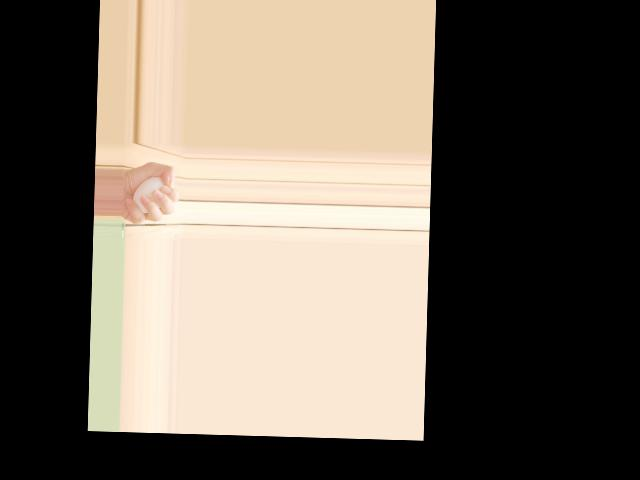egg: (132, 176, 163, 214)
